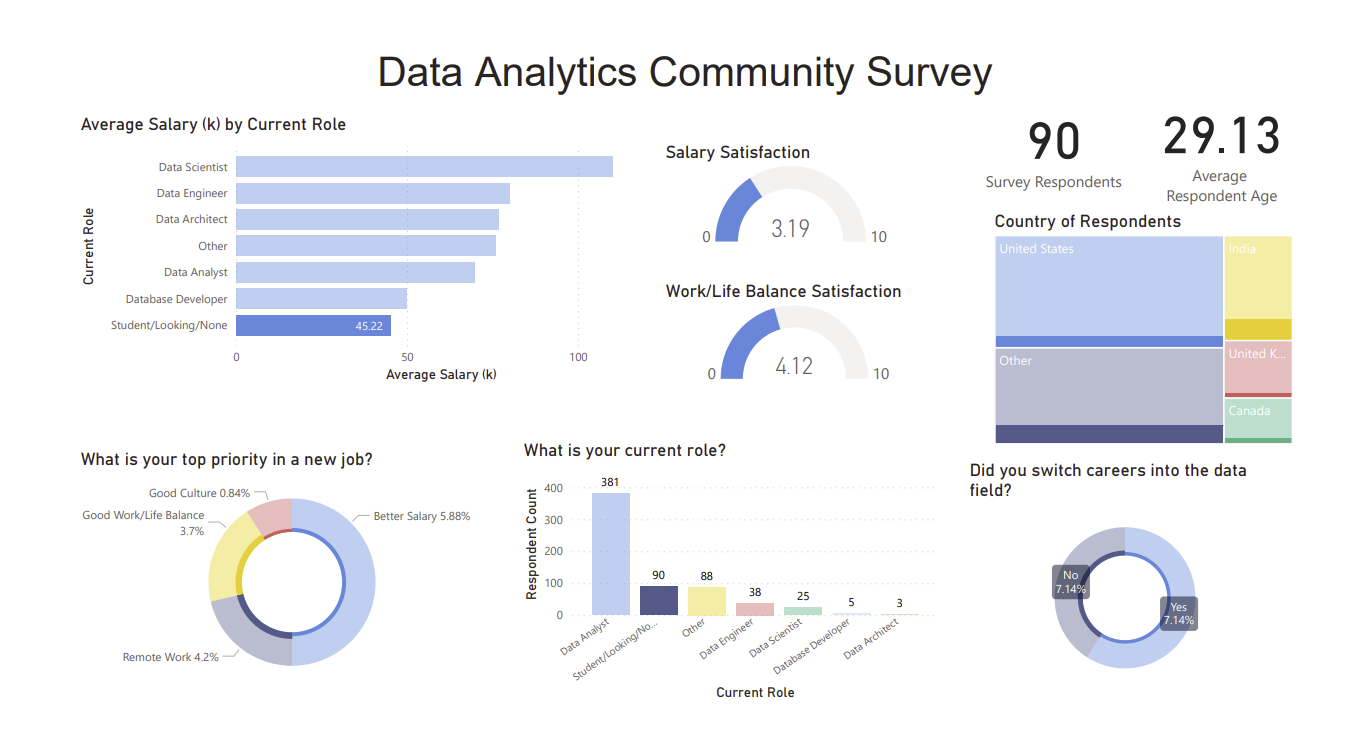

What the dashboard file says about the page in this screenshot:
{"tool":"powerbi","page":{"name":"Page 1","canvas":[1280,720],"ordinal":0},"visuals":[{"type":"textbox","box":[9.7,0,1270.3,72],"z":0},{"type":"card","fields":{"Values":["Count(Data Professional Survey.Unique ID)"]},"box":[957.8,35.6,165,139.1],"z":1000},{"type":"card","fields":{"Values":["Avg(Data Professional Survey.Q10 - Current Age)"]},"box":[1122.9,12.9,156.9,182.8],"z":2000},{"type":"donutChart","title":"Did you switch careers into the data field?","fields":{"Category":["Data Professional Survey.Q2 - Did you switch careers into Data?"],"Y":["CountNonNull(Data Professional Survey.Unique ID)"]},"box":[932,435.2,334.9,247.6],"z":3000},{"type":"barChart","fields":{"Category":["Data Professional Survey.Q1 - Which Title Best Fits your Current Role?.1"],"Y":["Avg(Data Professional Survey.Q3 - Current Yearly Salary (in USD) - Copy.2)"]},"box":[0,72.8,613.2,286.4],"z":4000},{"type":"treemap","title":"Country of Respondents","fields":{"Values":["CountNonNull(Data Professional Survey.Unique ID)"],"Group":["Data Professional Survey.Q11 - Which Country do you live in?.1"]},"box":[957.8,174.7,322,249.2],"z":5000},{"type":"donutChart","title":"What is your top priority in a new job?","fields":{"Category":["Data Professional Survey.Q8 - If you were to look for a new job today, what would be the most important thing to you?"],"Y":["CountNonNull(Data Professional Survey.Unique ID)"]},"box":[0,423.9,453,258.9],"z":6000},{"type":"gauge","title":"Work/Life Balance Satisfaction","fields":{"Y":["Avg(Data Professional Survey.Q6 - How Happy are you in your Current Position with the following? (Work/Life Balance))"],"MinValue":["Min(Data Professional Survey.Q6 - How Happy are you in your Current Position with the following? (Work/Life Balance))"],"MaxValue":["Max(Data Professional Survey.Q6 - How Happy are you in your Current Position with the following? (Work/Life Balance))"]},"box":[613.2,247.6,288,113.3],"z":7000},{"type":"gauge","title":"Salary Satisfaction","fields":{"Y":["Avg(Data Professional Survey.Q6 - How Happy are you in your Current Position with the following? (Upward Mobility))"],"MinValue":["Min(Data Professional Survey.Q6 - How Happy are you in your Current Position with the following? (Upward Mobility))"],"MaxValue":["Max(Data Professional Survey.Q6 - How Happy are you in your Current Position with the following? (Upward Mobility))"]},"box":[613.2,101.9,279.9,114.9],"z":8000},{"type":"columnChart","title":"What is your current role?","fields":{"Category":["Data Professional Survey.Q1 - Which Title Best Fits your Current Role?.1"],"Y":["CountNonNull(Data Professional Survey.Unique ID)"],"Series":["Data Professional Survey.Q1 - Which Title Best Fits your Current Role?.1"]},"box":[464.4,414.2,444.9,278.3],"z":9000}]}

Visuals, with their boxes in screenshot pixels (x1, y1, x2, y2), scaled from the page's 1280x720 canvas onto the 1350x746 screenshot:
textbox: <box>10,0,1349,75</box>
card - Count(Data Professional Survey.Unique ID): <box>1010,37,1184,181</box>
card - Avg(Data Professional Survey.Q10 - Current Age): <box>1184,13,1349,203</box>
"Did you switch careers into the data field?" donutChart: <box>983,451,1336,707</box>
barChart - Data Professional Survey.Q1 - Which Title Best Fits your Current Role?.1 x Avg(Data Professional Survey.Q3 - Current Yearly Salary (in USD) - Copy.2): <box>0,75,647,372</box>
"Country of Respondents" treemap: <box>1010,181,1349,439</box>
"What is your top priority in a new job?" donutChart: <box>0,439,478,707</box>
"Work/Life Balance Satisfaction" gauge: <box>647,257,950,374</box>
"Salary Satisfaction" gauge: <box>647,106,942,225</box>
"What is your current role?" columnChart: <box>490,429,959,718</box>
